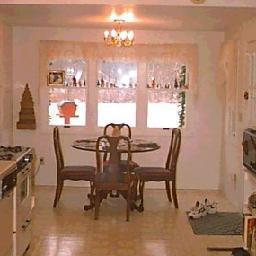Electrodomestico: (14, 153, 33, 252), (0, 166, 13, 255)
